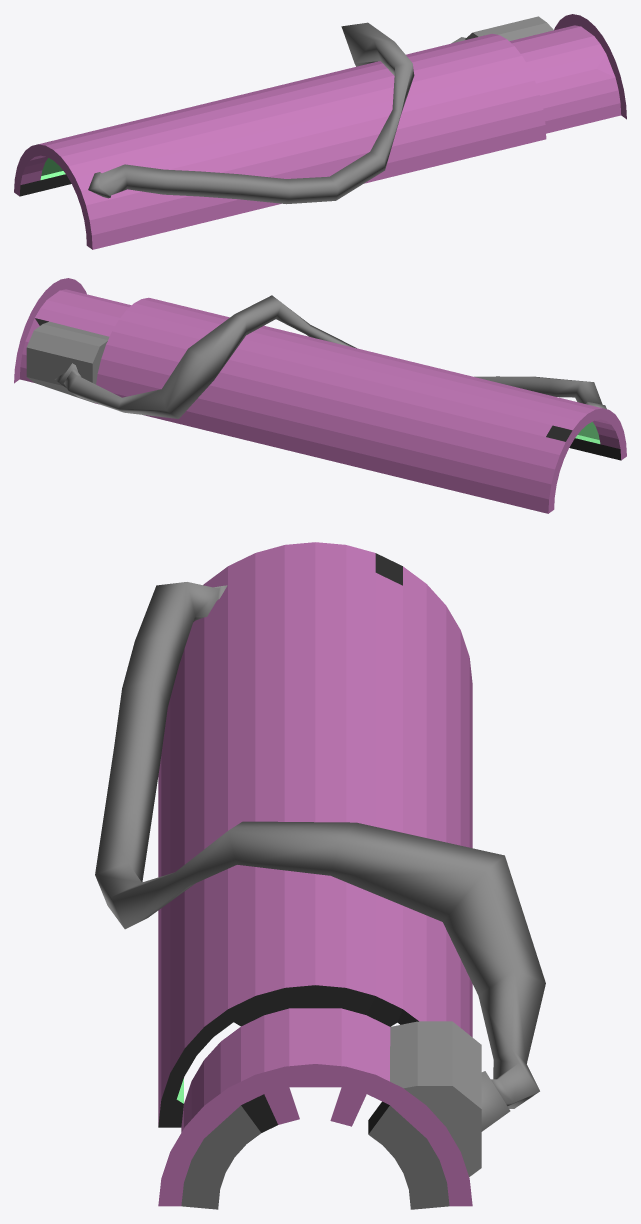
File: MEGAMANO_AGORA_VAI_TUNEL.fbx
The picture shows the model from 3 angles, top to bottom: view 1: azimuth 30°, elevation 25°; view 2: azimuth 150°, elevation 25°; view 3: azimuth 270°, elevation 25°; orthographic projection. The views are drawn at different scales.
Visible parts, largest first — view 1: Cylinder, BezierCurve; view 2: Cylinder, BezierCurve; view 3: Cylinder, BezierCurve.
Part boxes in pixels (x1,y1,x2,y2): Cylinder: [14, 14, 626, 249]; BezierCurve: [88, 22, 465, 204]; Cylinder: [14, 278, 626, 513]; BezierCurve: [54, 295, 606, 418]; Cylinder: [158, 542, 481, 1209]; BezierCurve: [95, 582, 545, 1131].
Bounding box in the file's own units: 920 × 155 × 336.
